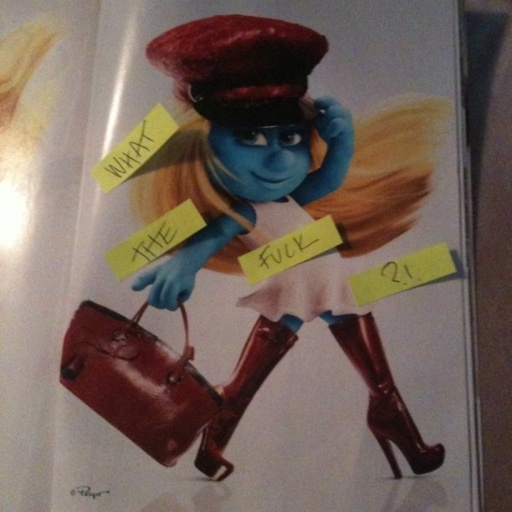hand: (130, 251, 192, 313), (308, 95, 355, 149)
